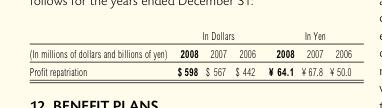table: (28, 28, 350, 77)
table column: (28, 28, 171, 77), (261, 28, 297, 77), (230, 28, 261, 77), (171, 28, 201, 77), (201, 28, 230, 77), (297, 28, 325, 77), (325, 28, 350, 77)
table column header: (28, 28, 350, 62)
table row: (28, 43, 350, 62), (28, 28, 350, 43), (28, 62, 350, 77)
table spanning cell: (28, 28, 171, 62), (171, 28, 261, 43), (261, 28, 350, 43)
